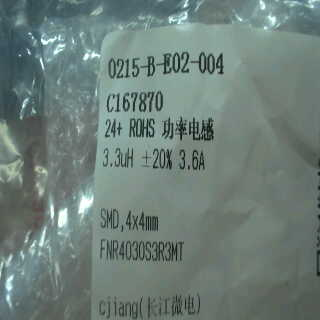3.3uH: (100, 141, 140, 180)
